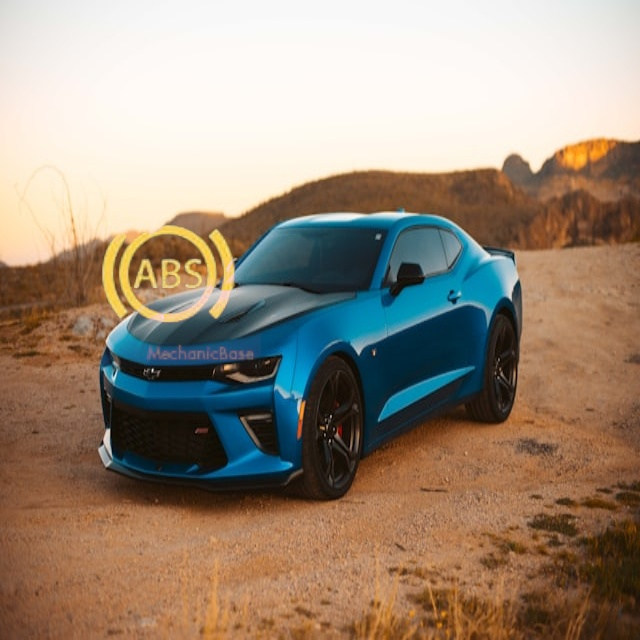symbol: (74, 182, 261, 369)
